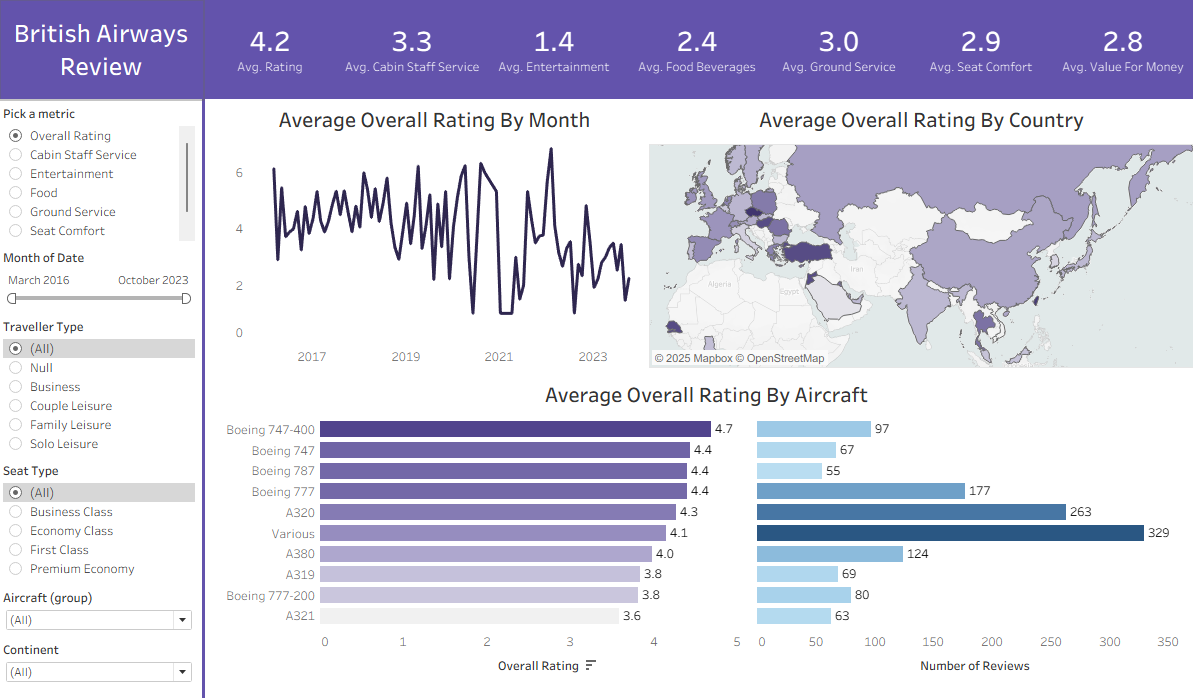

What the dashboard file says about the page in this screenshot:
{"tool":"tableau","page":{"name":"Dashboard 1","canvas":[1200,700],"ordinal":0},"visuals":[{"type":"text","box":[0,0,204,100]},{"type":"worksheet","title":"Summary","mark":"Automatic","box":[200,0,995,100]},{"type":"blank","box":[203,95,3,605]},{"type":"parameter","param":"[Parameters].[Parameter 1]","box":[0,102,200,144]},{"type":"worksheet","title":"Month","mark":"Automatic","rows":["Calculation_1614822000178610176"],"cols":["date"],"box":[221,102,429,270]},{"type":"worksheet","title":"Map","mark":"Automatic","box":[650,102,545,267]},{"type":"filter","title":"Map","param":"[federated.06jfm4d12guqvz1c9os4w1i71het].[tmn:date:qk]","box":[0,246,200,69]},{"type":"filter","title":"Map","param":"[federated.06jfm4d12guqvz1c9os4w1i71het].[none:traveller_type:nk]","box":[0,315,200,144]},{"type":"worksheet","title":"Aircraft","mark":"Automatic","cols":["Calculation_1614822000178610176","ba_reviews.csv_4FA5E2465A63488189B76FF538CBA086"],"box":[221,377,973,305]},{"type":"filter","title":"Map","param":"[federated.06jfm4d12guqvz1c9os4w1i71het].[none:seat_type:nk]","box":[0,459,200,127]},{"type":"filter","title":"Map","param":"[federated.06jfm4d12guqvz1c9os4w1i71het].[Aircraft (group)]","box":[0,586,200,52]},{"type":"filter","title":"Map","param":"[federated.06jfm4d12guqvz1c9os4w1i71het].[none:Continent:nk]","box":[0,638,200,52]}]}

Visuals, with their boxes in screenshot pixels (x1, y1, x2, y2), scaled from the page's 1200x700 canvas onto the 1193x698 screenshot:
text: 0:0:203:100
"Summary" worksheet: 199:0:1188:100
blank: 202:95:205:697
parameter: 0:102:199:245
"Month" worksheet: 220:102:646:371
"Map" worksheet: 646:102:1188:368
"Map" filter: 0:245:199:314
"Map" filter: 0:314:199:458
"Aircraft" worksheet: 220:376:1187:680
"Map" filter: 0:458:199:584
"Map" filter: 0:584:199:636
"Map" filter: 0:636:199:688
